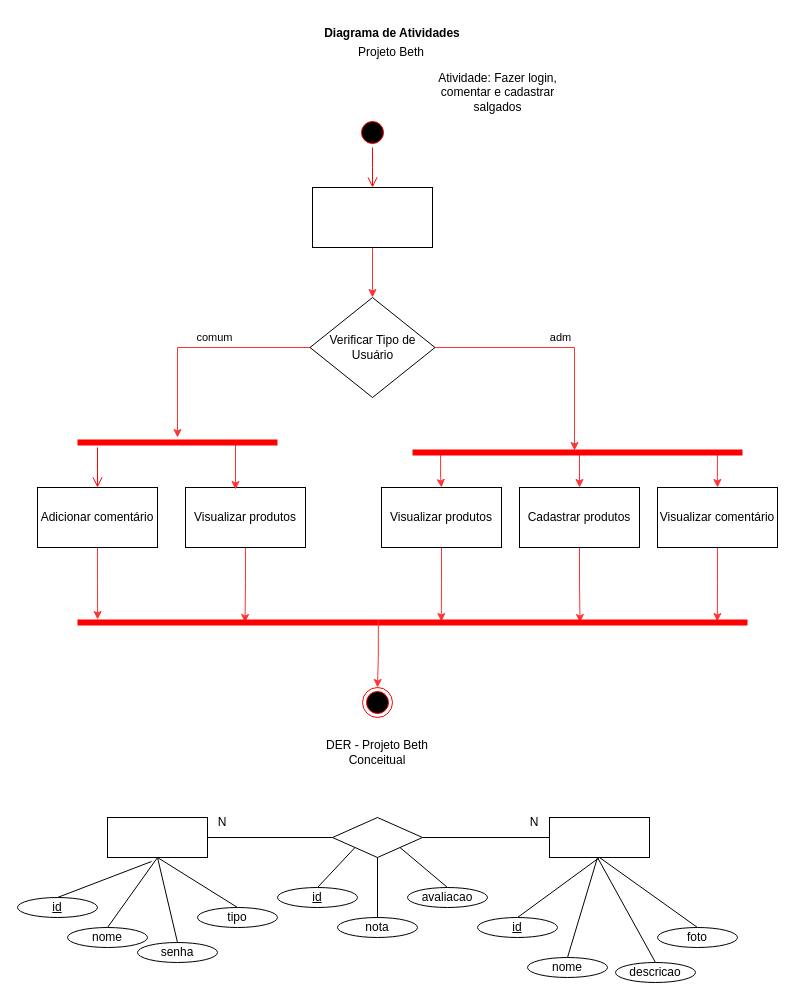
The diagram is 795 pixels wide and 1000 high, and some of its shapes have lost their labels. Here are the shapes that lost their labels. From the top down, the centre of each, then its label:
(x=372, y=217): Fazer Login
(x=157, y=837): Usuários
(x=377, y=837): Comenta
(x=599, y=837): Salgados
